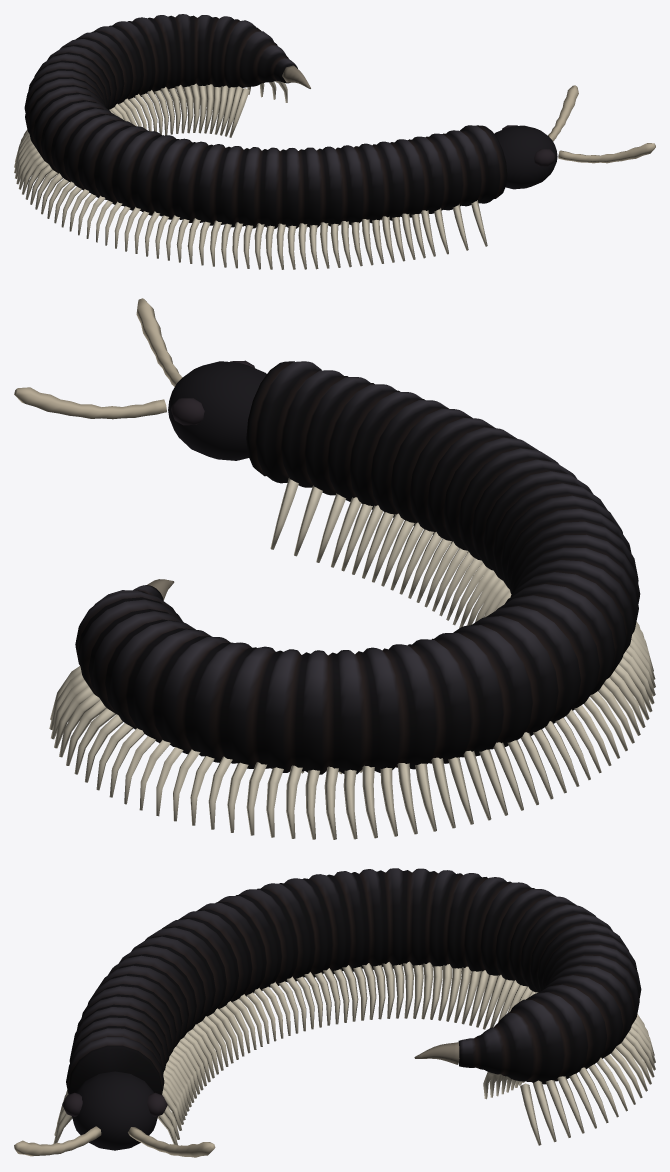
File: millipede.glb
3 renders of one model, top to bottom at view 1: azimuth 30°, elevation 25°; view 2: azimuth 150°, elevation 25°; view 3: azimuth 270°, elevation 25°, orthographic. The views are drawn at different scales.
Parts seen in each view (by area): view 1: millipede; view 2: millipede; view 3: millipede.
Boxes of the visible parts, x1,y1,x2,y2 form: millipede: (14,14,655,269); millipede: (14,298,655,839); millipede: (14,868,655,1157).
Size of the model in its own units: 0.6128 by 0.1247 by 0.6071.
